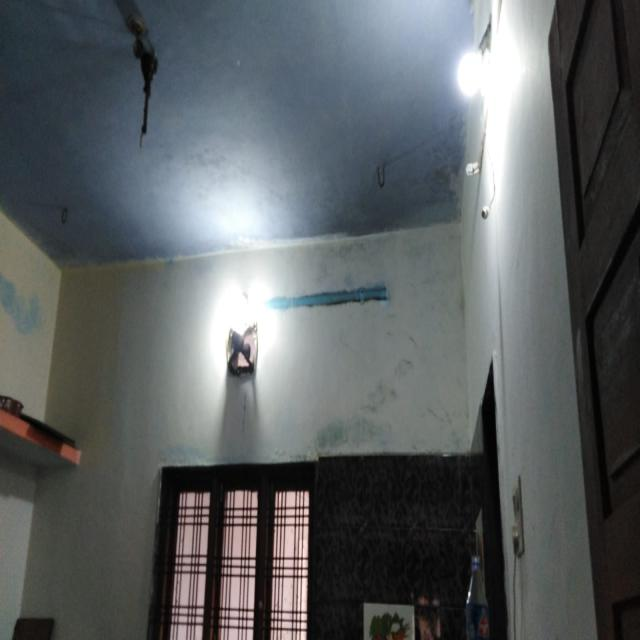Non_Damaged: (7, 5, 561, 640)
